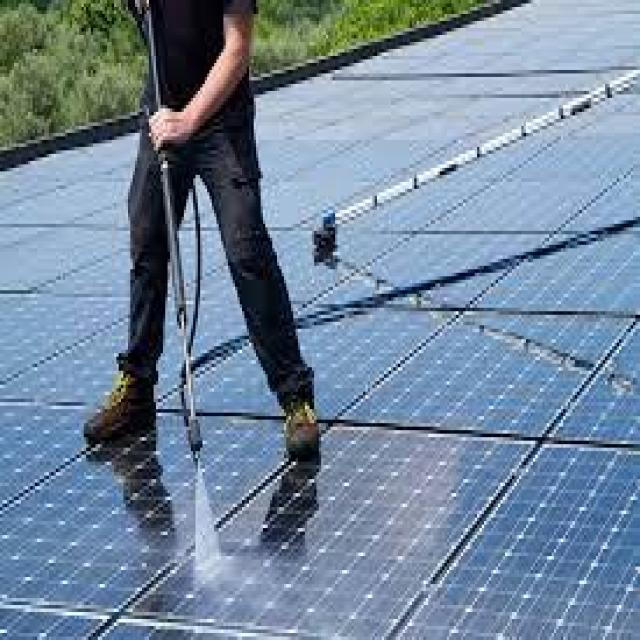clean-solar-panel: (1, 2, 640, 637)
